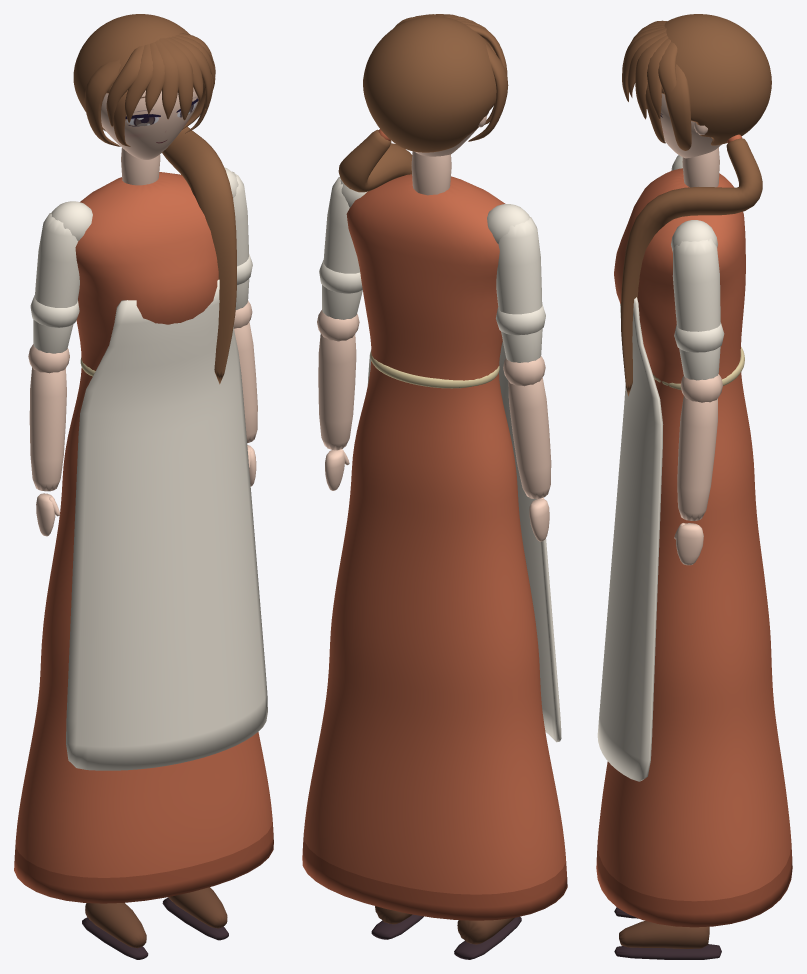
Rendered from mom.glb.
3 views of the same model, side by side, from view 1: azimuth 30°, elevation 25°; view 2: azimuth 150°, elevation 25°; view 3: azimuth 270°, elevation 25° (orthographic). The views are drawn at different scales.
Visible parts, largest first — view 1: mom:body.mesh, mom:head.mesh, mom:armL.mesh, mom:foreL.mesh, mom:shinL.mesh, mom:foreR.mesh, mom:shinR.mesh, mom:armR.mesh; view 2: mom:body.mesh, mom:head.mesh, mom:armL.mesh, mom:foreL.mesh, mom:foreR.mesh, mom:armR.mesh, mom:shinL.mesh, mom:shinR.mesh; view 3: mom:body.mesh, mom:head.mesh, mom:armR.mesh, mom:foreR.mesh, mom:shinR.mesh.
Part boxes in pixels (x1,y1,x2,y2): mom:body.mesh: (14,126,273,903); mom:head.mesh: (73,14,215,185); mom:armL.mesh: (30,201,92,353); mom:foreL.mesh: (28,344,69,536); mom:shinL.mesh: (82,903,148,959); mom:foreR.mesh: (233,300,257,486); mom:shinR.mesh: (162,887,228,940); mom:armR.mesh: (224,167,252,309); mom:body.mesh: (302,129,567,920); mom:head.mesh: (363,14,508,195); mom:armL.mesh: (487,204,545,362); mom:foreL.mesh: (503,356,551,541); mom:foreR.mesh: (317,309,359,490); mom:armR.mesh: (319,177,367,319); mom:shinL.mesh: (454,916,521,959); mom:shinR.mesh: (371,906,423,939); mom:body.mesh: (596,138,792,927); mom:head.mesh: (622,14,771,187); mom:armR.mesh: (671,220,724,380); mom:foreR.mesh: (674,374,722,565); mom:shinR.mesh: (614,921,721,959).
Bounding box in the file's own units: 0.4563 × 1.66 × 0.3212.
12 materials, 1 textured.
